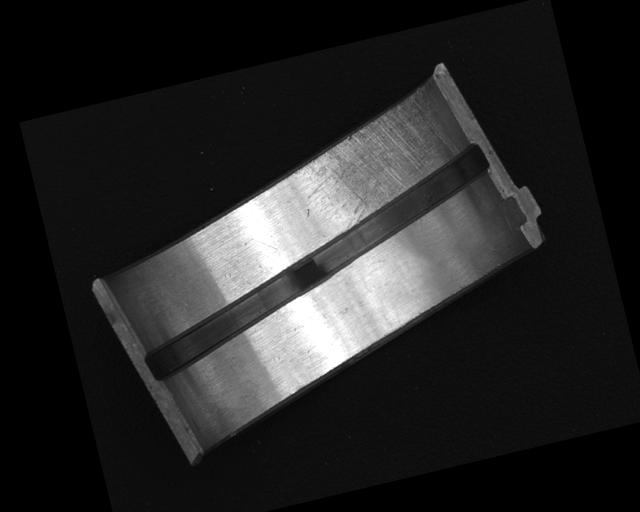gap: (113, 140, 520, 384)
scratch: (290, 86, 463, 238)
